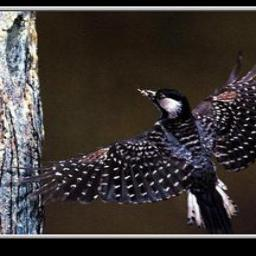Woodpecker: (12, 55, 256, 231)
